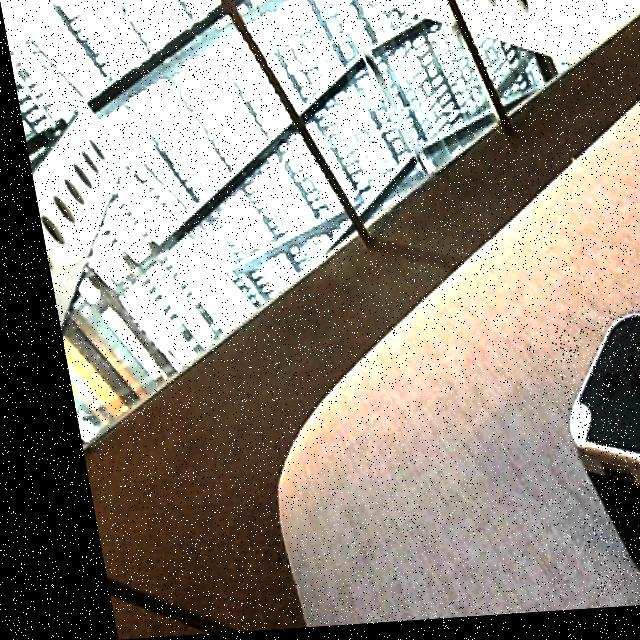adapter: (533, 312, 640, 603)
